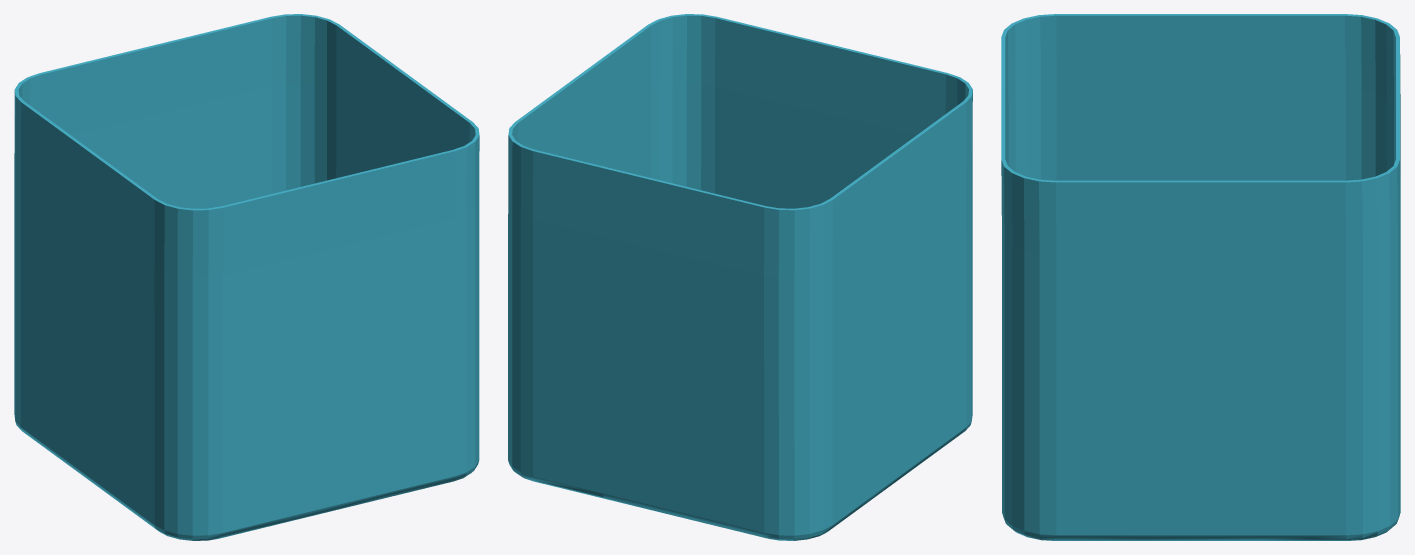
Rendered from LV28_boxbase.fbx.
3 renders of one model, left to right at view 1: azimuth 30°, elevation 25°; view 2: azimuth 150°, elevation 25°; view 3: azimuth 270°, elevation 25°, orthographic. The views are drawn at different scales.
Parts seen in each view (by area): view 1: box base; view 2: box base; view 3: box base.
Part boxes in pixels (<box>): box base: <box>14,14,479,540</box>; box base: <box>508,14,972,540</box>; box base: <box>1001,14,1400,540</box>.
Size of the model in its own units: 0.9833 by 0.9851 by 0.9848.
